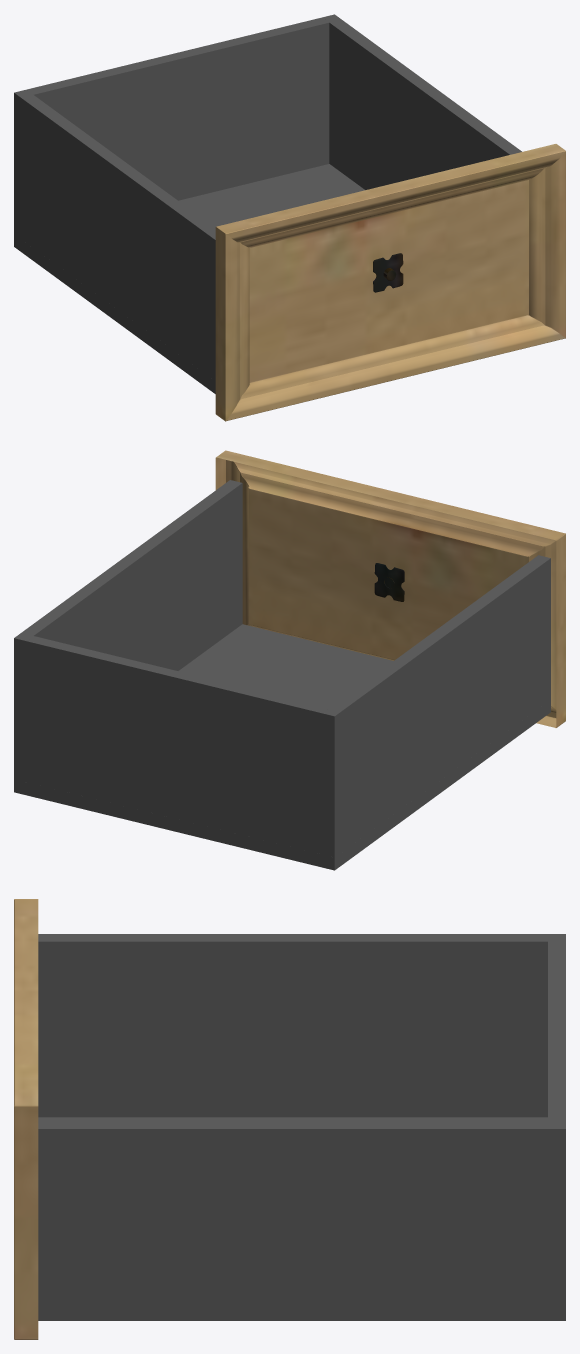
Rendered from drawer-3.glb.
3 views of the same model, one above another, from view 1: azimuth 30°, elevation 25°; view 2: azimuth 150°, elevation 25°; view 3: azimuth 270°, elevation 25° (orthographic). The views are drawn at different scales.
Visible parts, largest first — view 1: world; view 2: world; view 3: world.
Boxes of the visible parts, x1,y1,x2,y2 form: world: [14, 14, 565, 421]; world: [14, 450, 565, 870]; world: [14, 899, 565, 1339].
Size of the model in its own units: 0.3434 by 0.1811 by 0.3869.
Materials: 2 (1 with a texture image).
